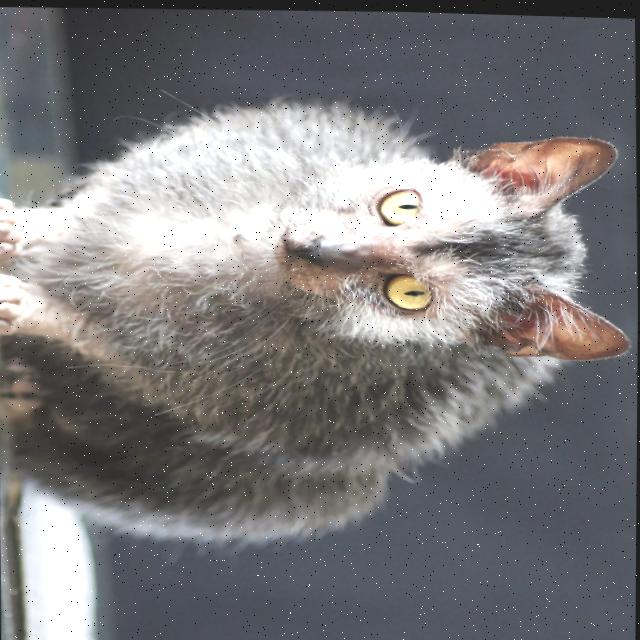Lykoi: (0, 78, 640, 558)
